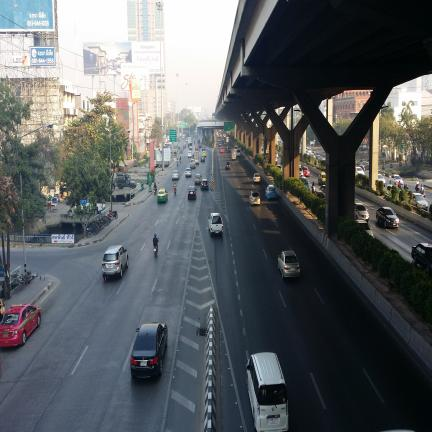car: (130, 323, 168, 377), (102, 245, 128, 281), (411, 243, 432, 275), (278, 250, 300, 279), (376, 207, 399, 228), (208, 213, 223, 236), (411, 193, 429, 210), (354, 203, 369, 221), (389, 174, 404, 187), (249, 190, 260, 206), (187, 186, 197, 200), (201, 179, 209, 190), (253, 173, 261, 183), (185, 167, 192, 177), (194, 174, 201, 184), (172, 171, 179, 180), (190, 159, 196, 168), (231, 152, 237, 160), (225, 161, 230, 170), (236, 148, 241, 157), (202, 148, 206, 157), (200, 156, 205, 162), (187, 152, 192, 158), (226, 146, 231, 152)
human: (0, 299, 4, 322), (153, 234, 158, 250), (420, 184, 425, 196), (416, 179, 419, 192), (312, 182, 315, 193), (404, 183, 408, 191), (398, 180, 401, 187), (174, 183, 176, 193), (154, 182, 156, 190), (405, 158, 407, 165), (180, 156, 181, 162), (177, 160, 178, 165)
motorbike: (154, 244, 158, 257), (415, 184, 420, 193), (420, 191, 425, 200), (154, 188, 157, 195), (174, 188, 176, 195), (177, 160, 179, 166)
taxi: (0, 304, 41, 347), (157, 188, 168, 204), (266, 185, 277, 200), (300, 176, 309, 191), (318, 172, 326, 185), (302, 166, 310, 177), (202, 150, 206, 157)
truck: (116, 173, 136, 189), (194, 151, 199, 164), (231, 151, 236, 160)
van: (246, 352, 288, 431), (236, 148, 241, 157), (234, 145, 238, 152)
